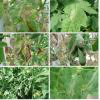Tomato leaf bacterial spot: (10, 1, 40, 31)
